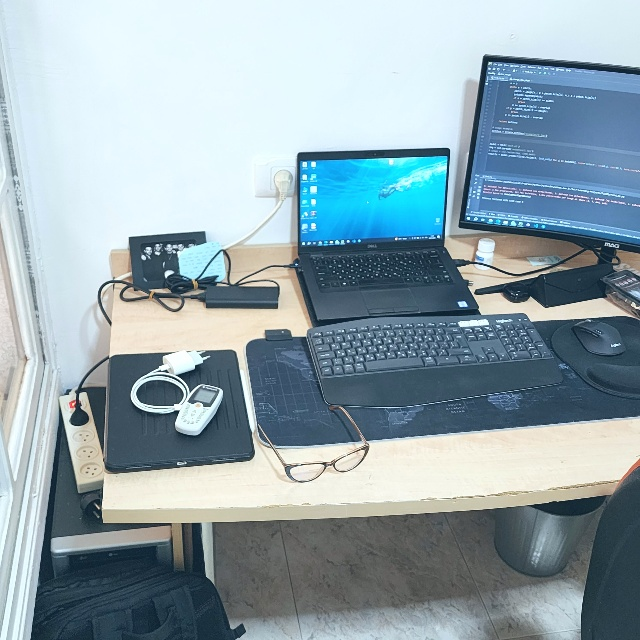glasses: (257, 404, 375, 485)
